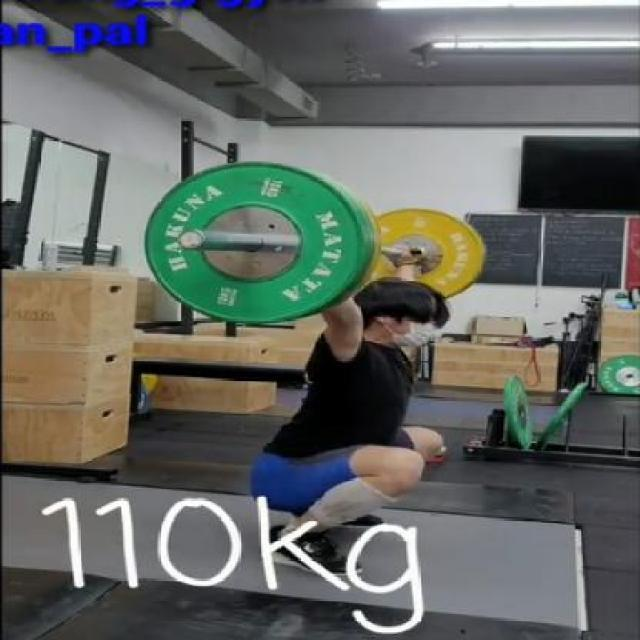Barbell: (172, 225, 210, 258)
